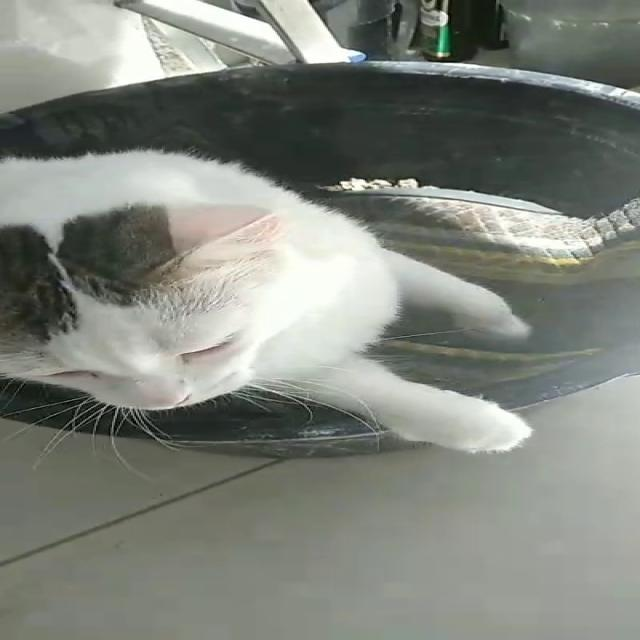Simba: (0, 130, 550, 466)
